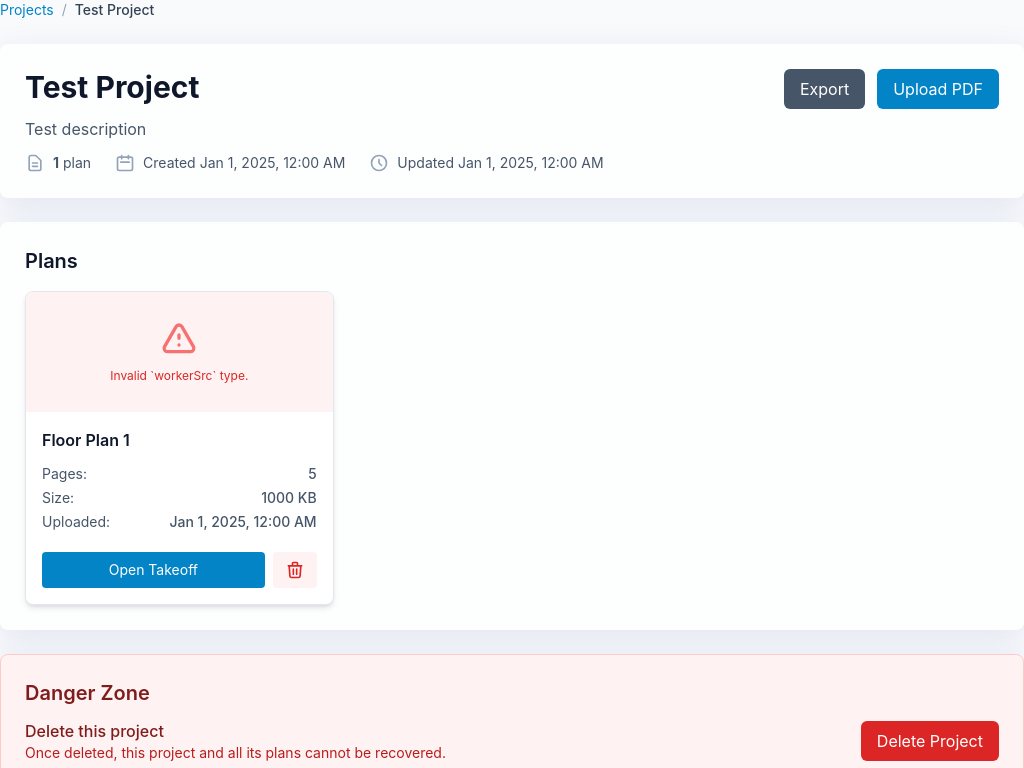
Test: ProjectDetailPage - Export Dialog Integration › Export Button › should open export dialog when Export button is clicked
Step 1. Click the button "Export" → [825, 89], box 784,69 -> 865,109
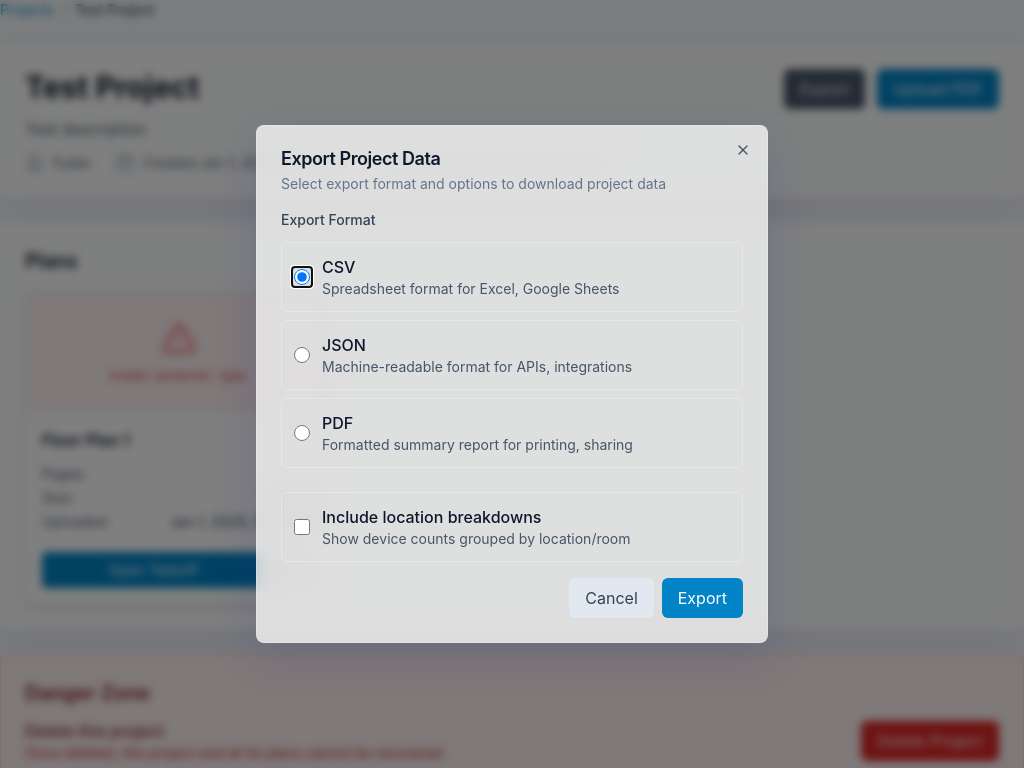
Expected: the heading "Export Project Data" is shown, 281,148 -> 440,169
Expected: the text "CSV" is shown, 322,257 -> 355,277
Expected: the text "JSON" is shown, 322,335 -> 366,355
